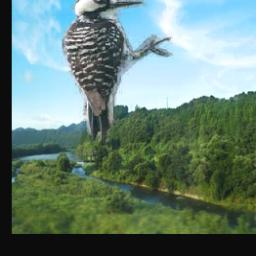Woodpecker: (60, 0, 175, 142)
